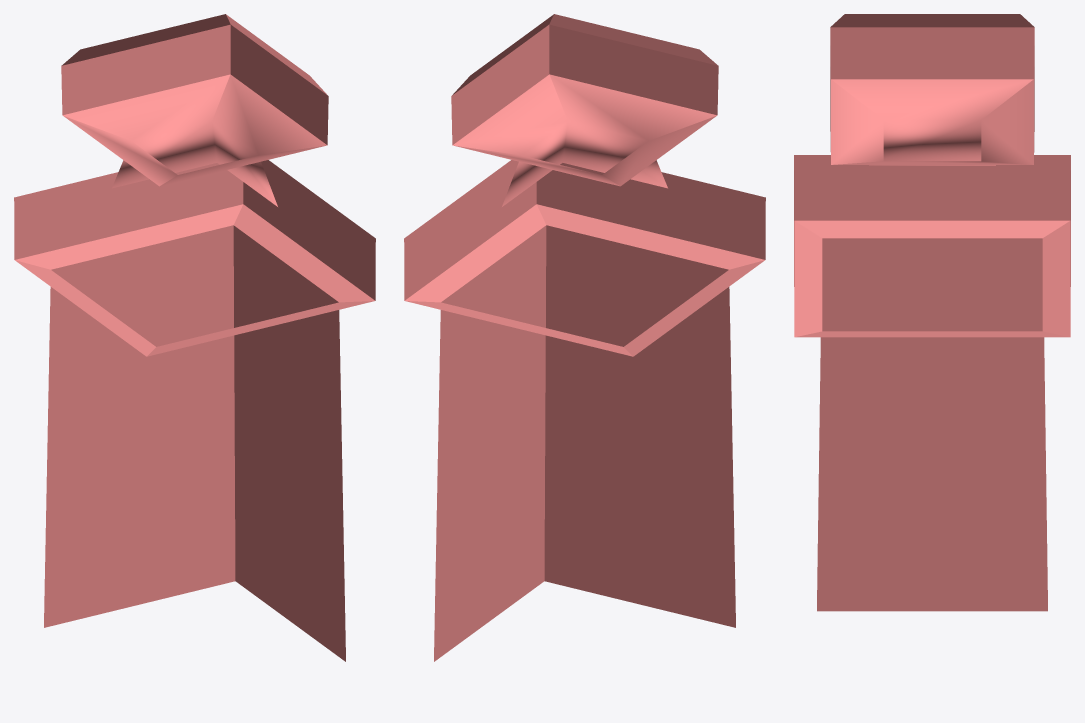
The model's file is entity430292.gltf.
The picture shows the model from 3 angles, left to right: view 1: azimuth 30°, elevation 25°; view 2: azimuth 150°, elevation 25°; view 3: azimuth 270°, elevation 25°; orthographic projection. The views are drawn at different scales.
Visible parts, largest first — view 1: node_pCube831; view 2: node_pCube831; view 3: node_pCube831.
Part boxes in pixels (bbox=[...]): node_pCube831: bbox=[14, 14, 375, 661]; node_pCube831: bbox=[404, 14, 765, 661]; node_pCube831: bbox=[794, 14, 1070, 611].
Size of the model in its own units: 2.62 by 6.37 by 2.62.
